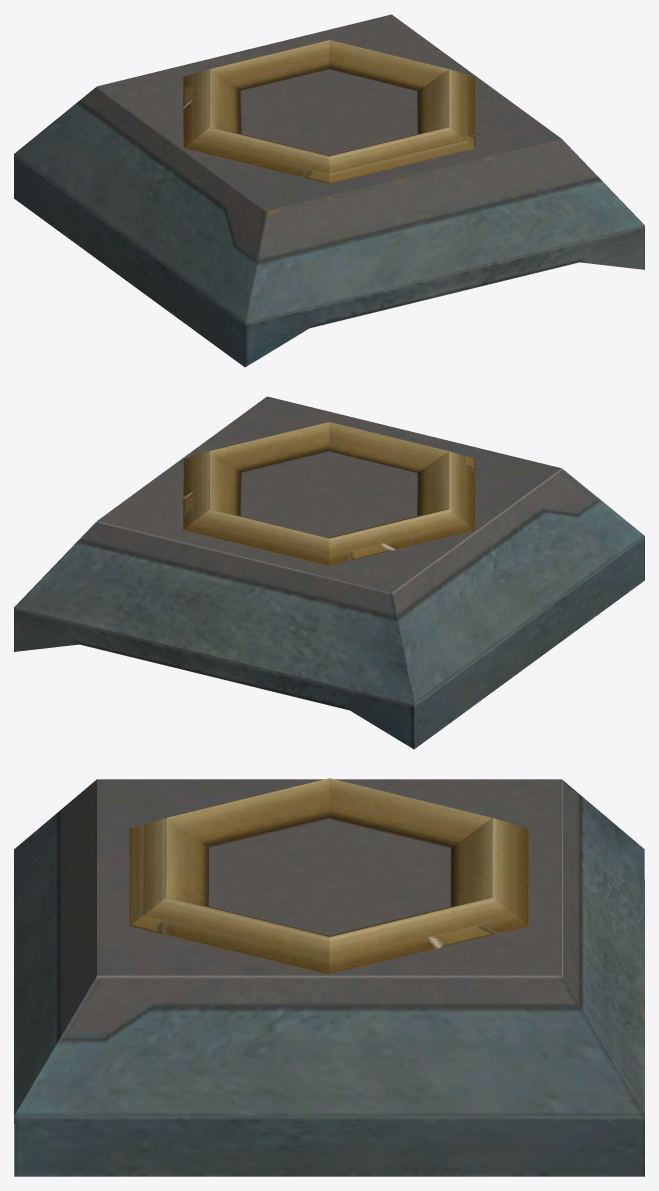
File: con_gen_crate_m_s3_l2.fbx
The picture shows the model from 3 angles, top to bottom: view 1: azimuth 30°, elevation 25°; view 2: azimuth 150°, elevation 25°; view 3: azimuth 270°, elevation 25°; orthographic projection. The views are drawn at different scales.
Visible parts, largest first — view 1: mesh_node; view 2: mesh_node; view 3: mesh_node.
Part boxes in pixels (x1,y1,x2,y2): mesh_node: (14,14,644,367); mesh_node: (14,396,644,749); mesh_node: (14,778,644,1176).
Bounding box in the file's own units: 0.6959 × 0.226 × 0.6959.
